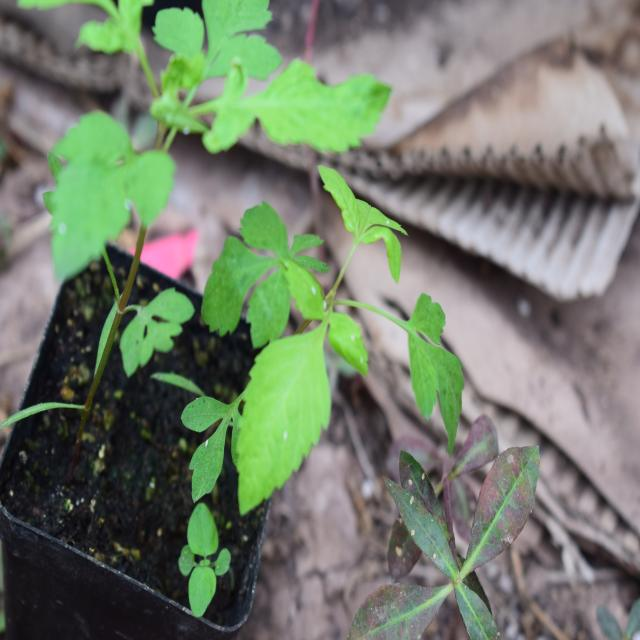Bidens pilosa: (182, 152, 462, 500)
